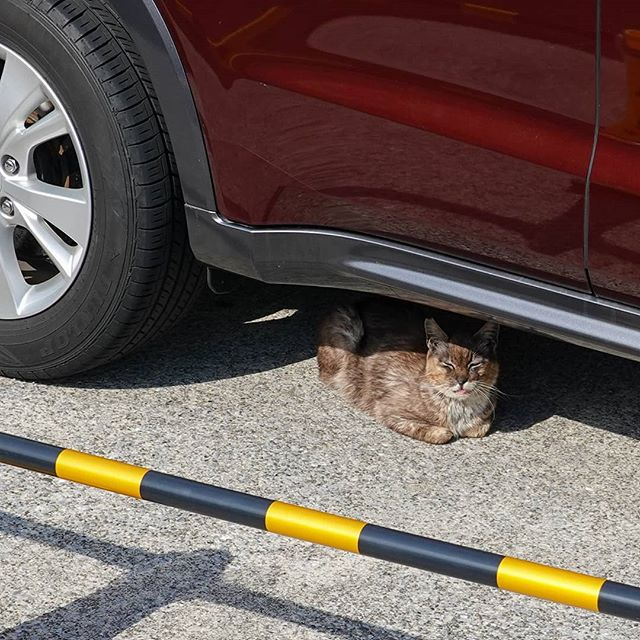animal: (304, 291, 520, 456)
